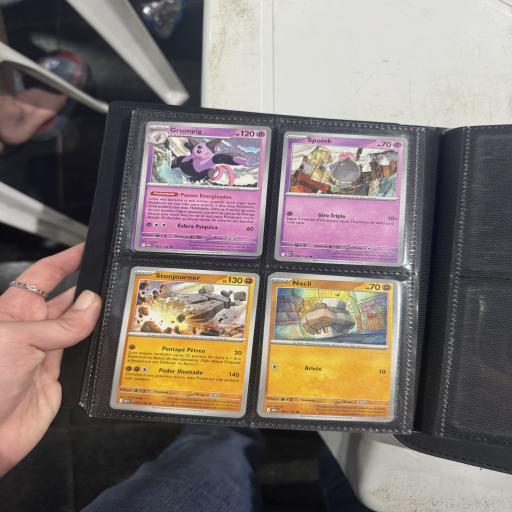card: (109, 264, 261, 417), (257, 273, 402, 423), (134, 120, 272, 257), (274, 131, 411, 267)
